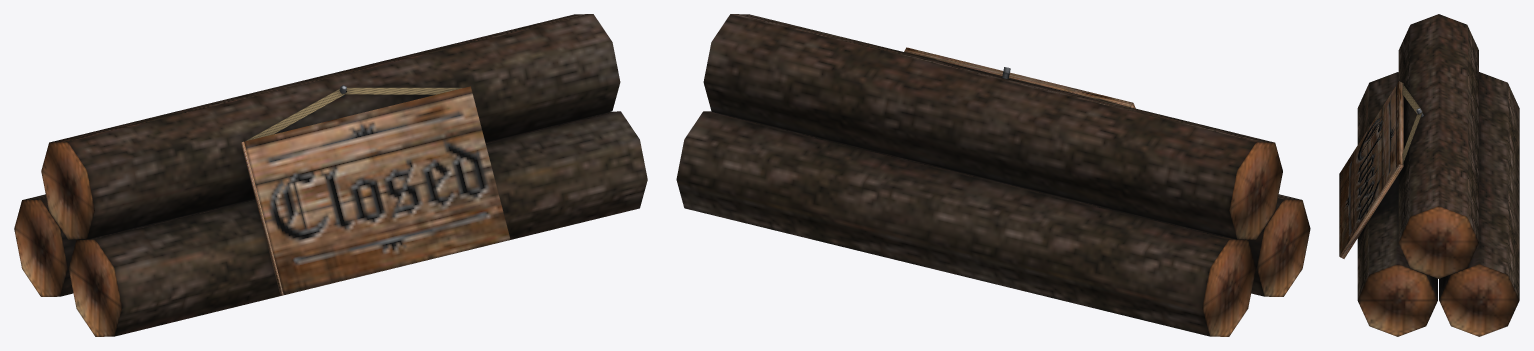
The model's file is Logblocker_atlas.fbx.
3 renders of one model, left to right at view 1: azimuth 30°, elevation 25°; view 2: azimuth 150°, elevation 25°; view 3: azimuth 270°, elevation 25°, orthographic. The views are drawn at different scales.
Parts seen in each view (by area): view 1: polySurface2; view 2: polySurface2; view 3: polySurface2.
Boxes of the visible parts, x1,y1,x2,y2 form: polySurface2: (14, 14, 647, 336); polySurface2: (676, 14, 1310, 336); polySurface2: (1339, 14, 1519, 336).
Size of the model in its own units: 5.03 by 1.61 by 1.99.
